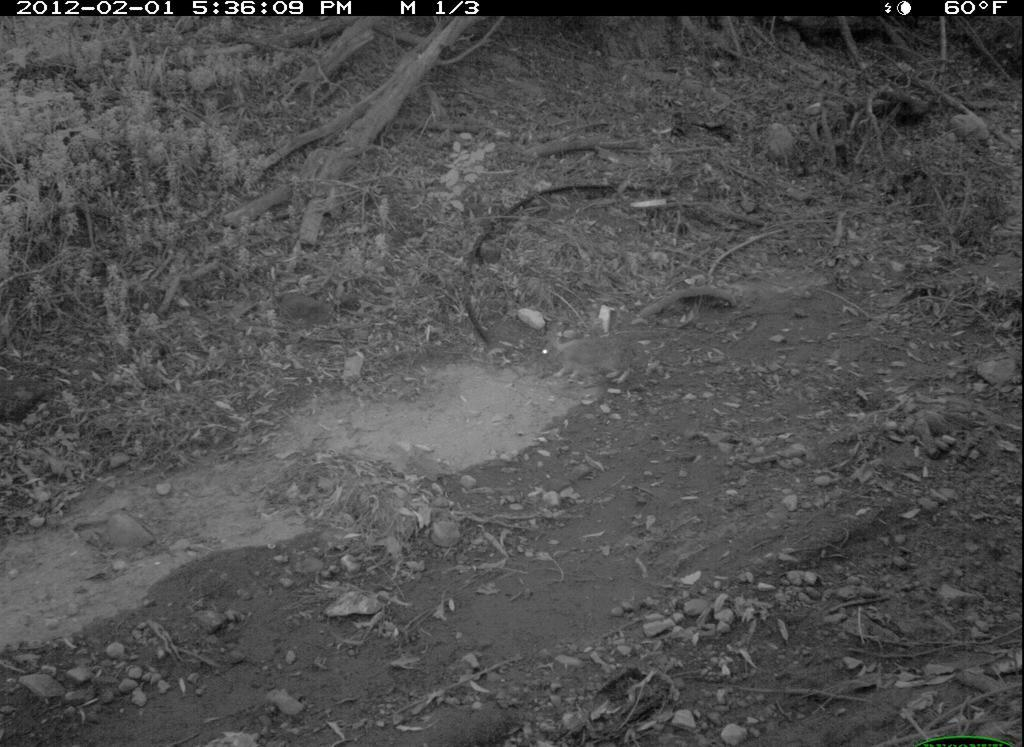rabbit: (271, 288, 355, 330)
